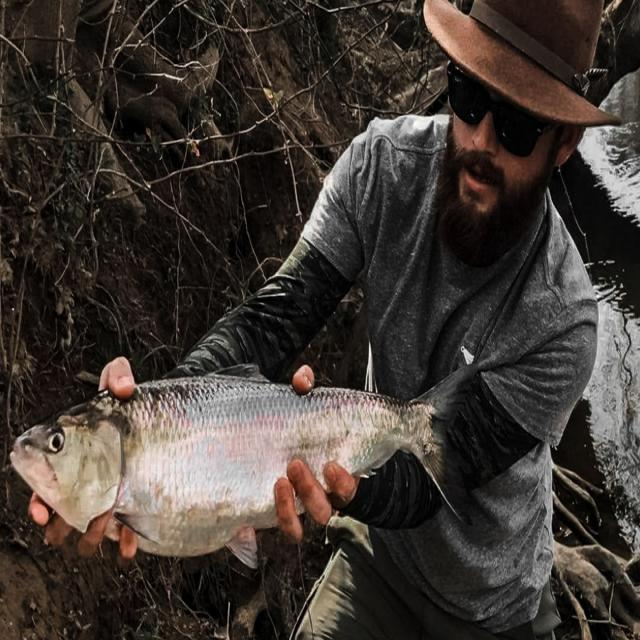Shad - American: (10, 364, 478, 556)
